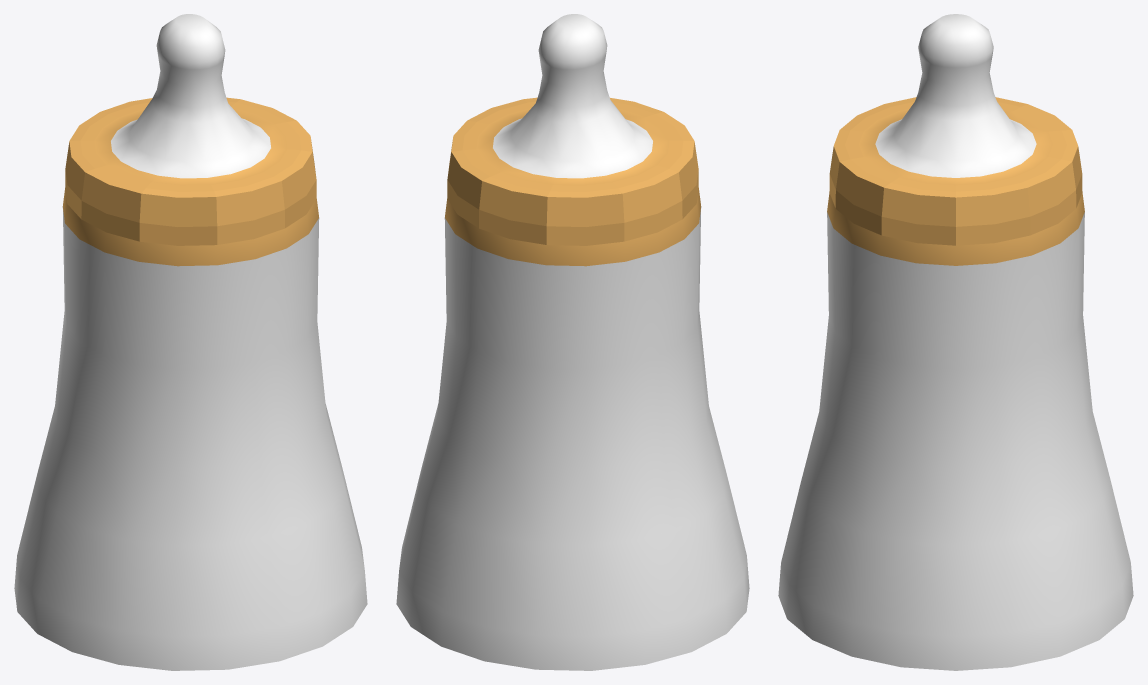
Rendered from borst melk flesje.fbx.
The picture shows the model from 3 angles, left to right: view 1: azimuth 30°, elevation 25°; view 2: azimuth 150°, elevation 25°; view 3: azimuth 270°, elevation 25°; orthographic projection.
Parts seen in each view (by area): view 1: polySurface3; view 2: polySurface3; view 3: polySurface3.
Part boxes in pixels (<box>): polySurface3: <box>14,14,367,670</box>; polySurface3: <box>396,14,749,670</box>; polySurface3: <box>778,14,1133,670</box>.
Bounding box in the file's own units: 2.92 × 5.23 × 2.92.
Materials: 1 (1 with a texture image).
